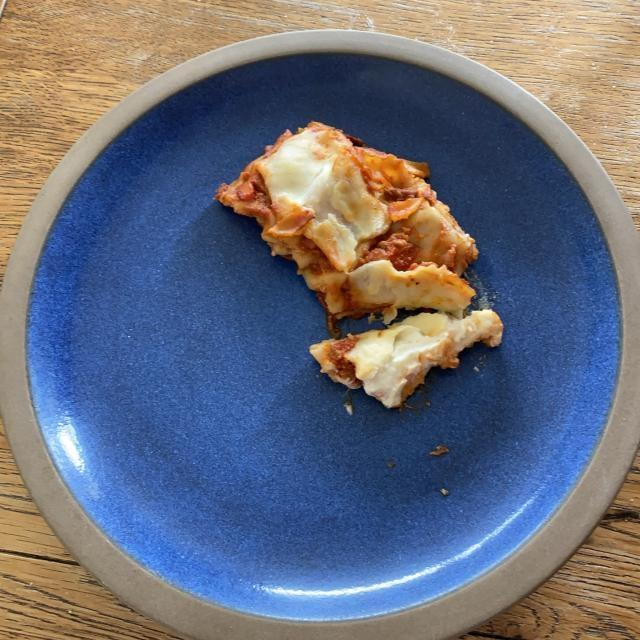lasagne: (220, 127, 499, 403)
